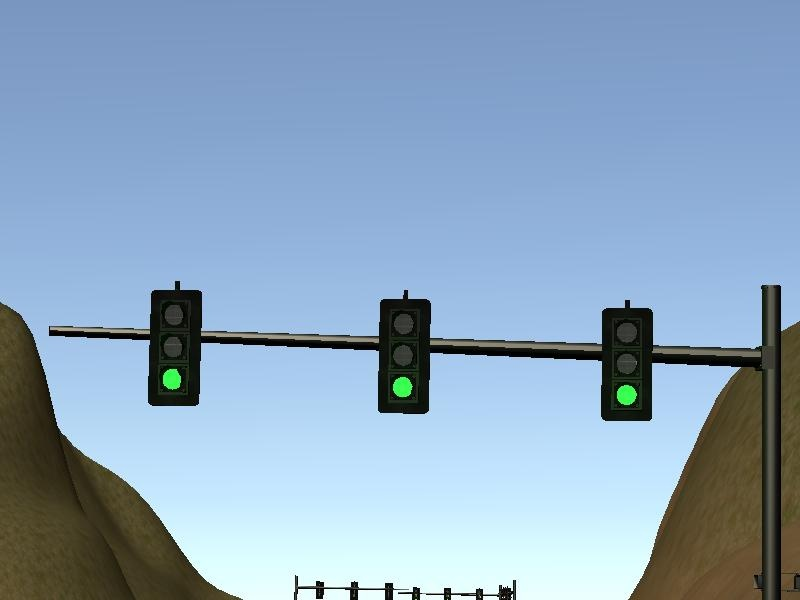GREEN: (375, 299, 433, 414), (146, 289, 203, 406), (600, 309, 654, 423)
